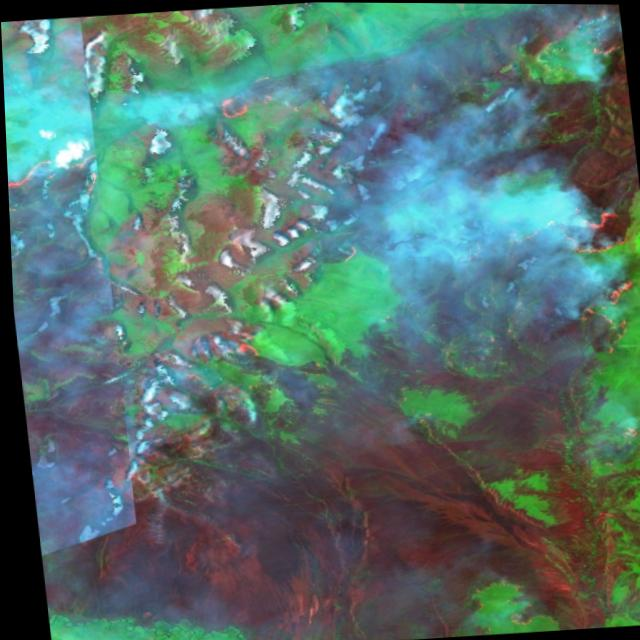fire: (520, 198, 640, 364), (5, 148, 112, 215), (201, 67, 285, 124), (219, 328, 270, 369)
